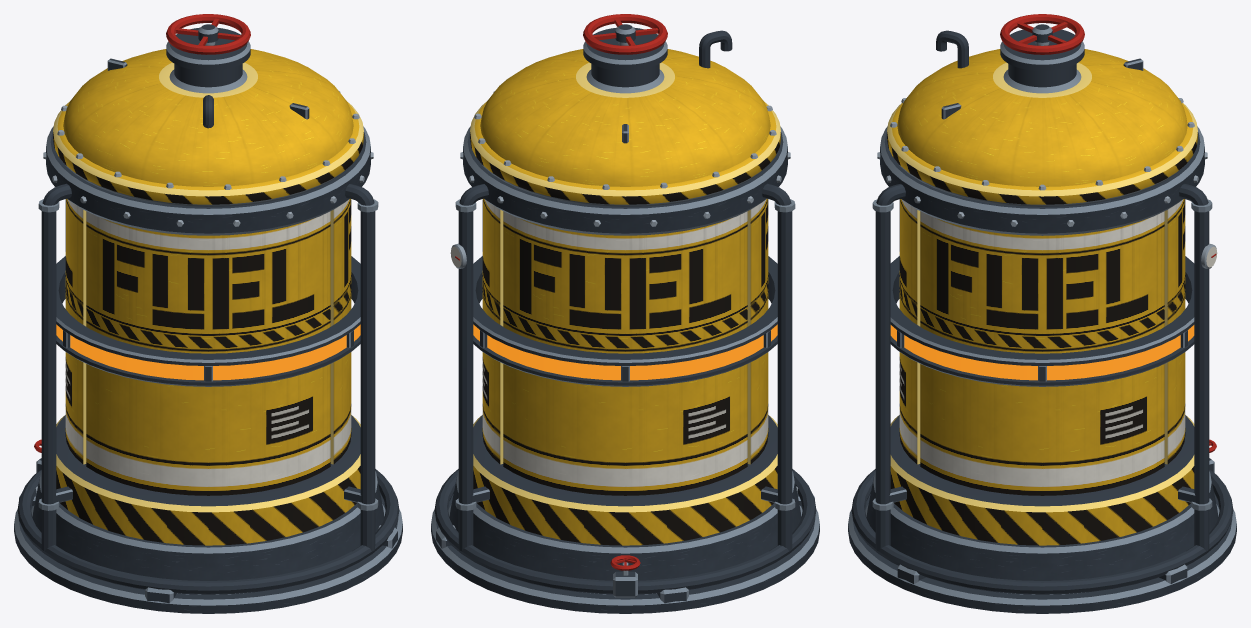
Rendered from fuel.glb.
3 views of the same model, side by side, from view 1: azimuth 30°, elevation 25°; view 2: azimuth 150°, elevation 25°; view 3: azimuth 270°, elevation 25° (orthographic).
Visible parts, largest first — view 1: body, stave-1, cap, band, stave-2, stave-0; view 2: body, stave-0, cap, band, stave-2, stave-1; view 3: body, stave-2, cap, band, stave-0, stave-1.
Part boxes in pixels (x1,y1,x2,y2): body: [14, 126, 402, 613]; stave-1: [86, 211, 330, 495]; cap: [53, 14, 363, 206]; band: [56, 256, 360, 386]; stave-2: [330, 198, 351, 464]; stave-0: [65, 199, 86, 464]; body: [431, 126, 819, 613]; stave-0: [503, 211, 747, 495]; cap: [470, 14, 780, 206]; band: [473, 256, 777, 386]; stave-2: [482, 198, 503, 464]; stave-1: [747, 199, 768, 464]; body: [848, 126, 1236, 613]; stave-2: [920, 211, 1164, 495]; cap: [887, 14, 1197, 206]; band: [890, 256, 1194, 386]; stave-0: [1164, 199, 1185, 464]; stave-1: [899, 199, 920, 464].
Size of the model in its own units: 3.4 by 4.87 by 3.4.
Materials: 2 (1 with a texture image).
